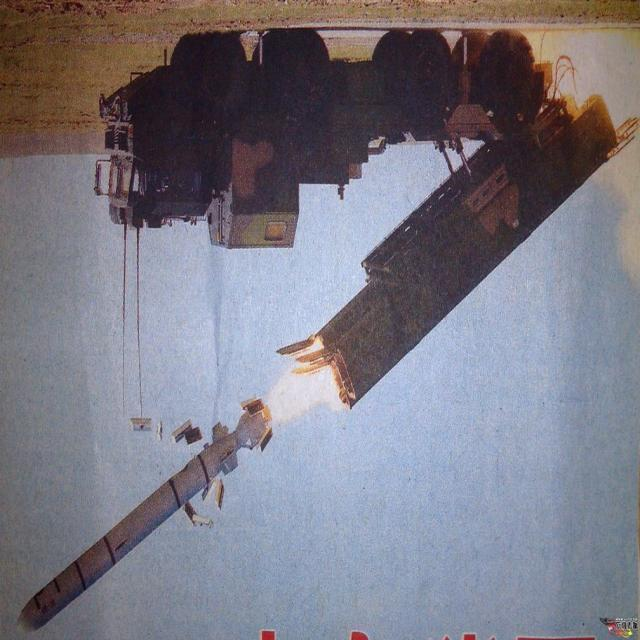Missile: (0, 396, 280, 640)
